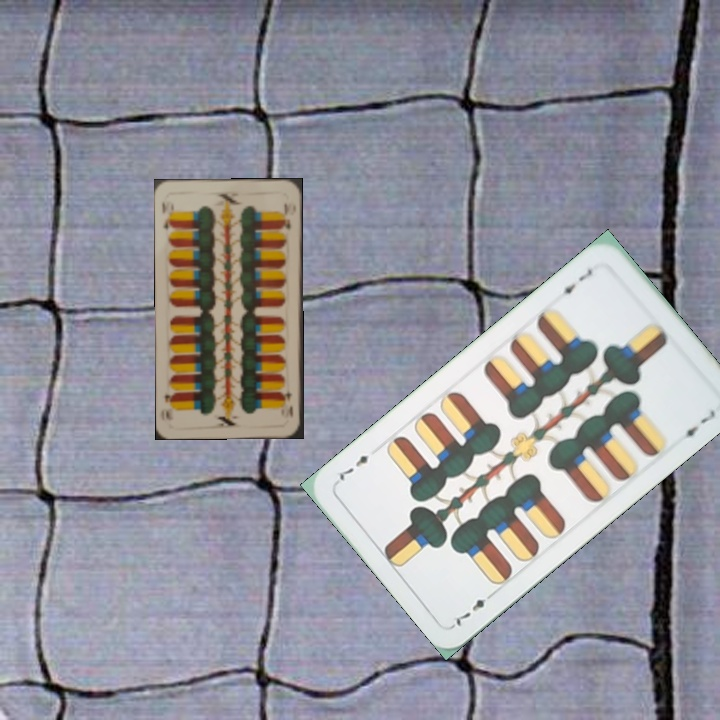E10: (158, 197, 177, 233), (279, 382, 296, 421)
E7: (449, 586, 499, 630), (553, 264, 595, 299)
